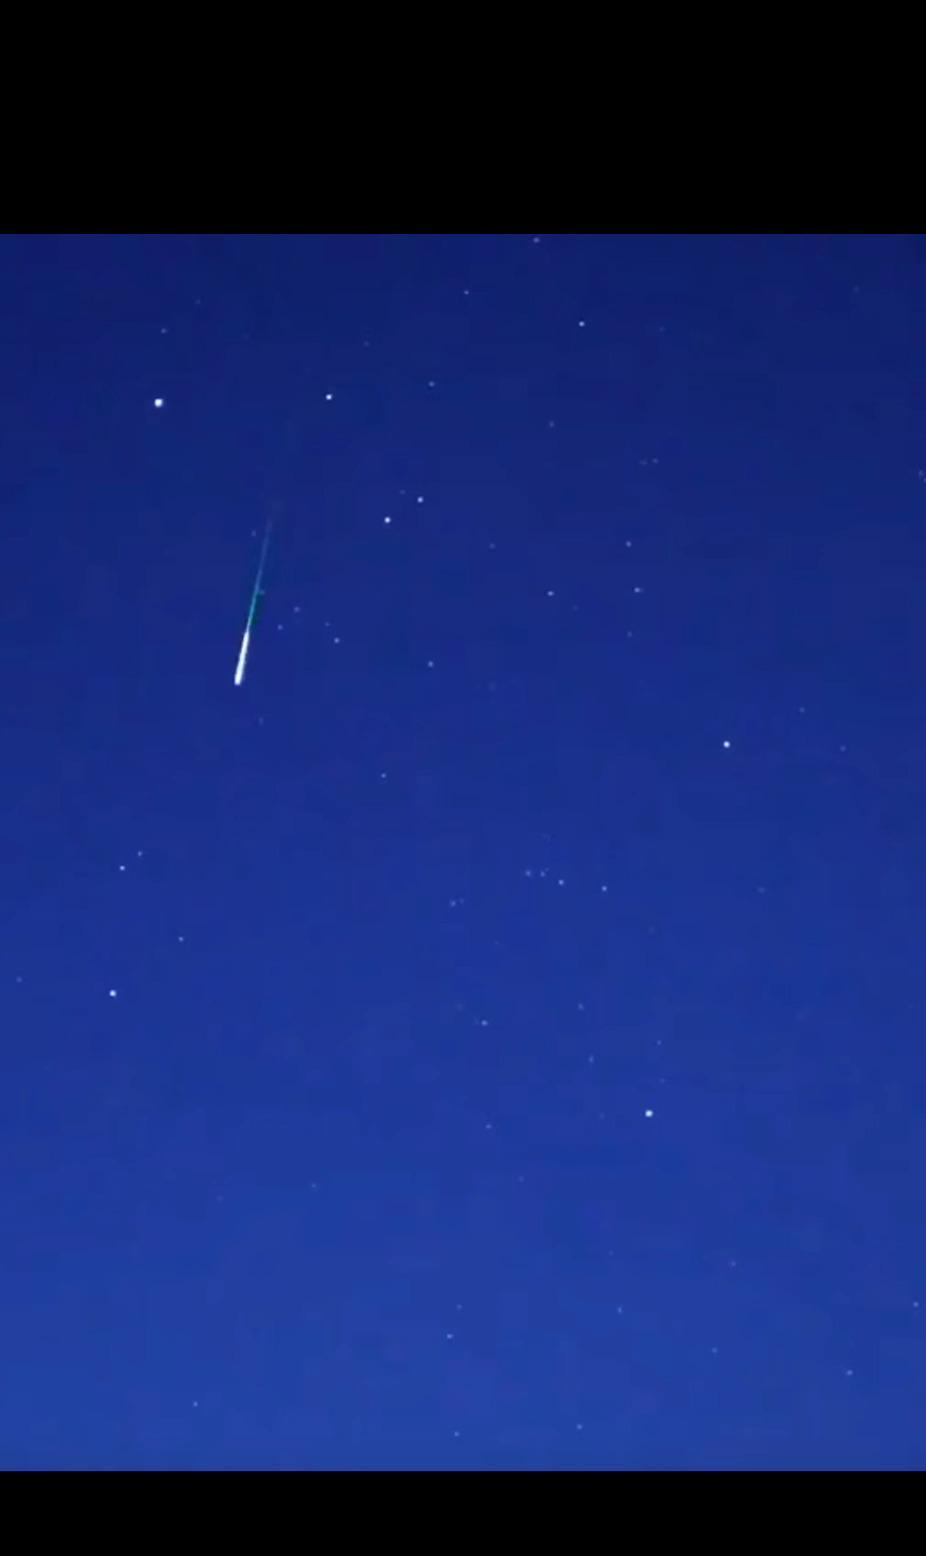meteorite: (208, 496, 312, 714)
